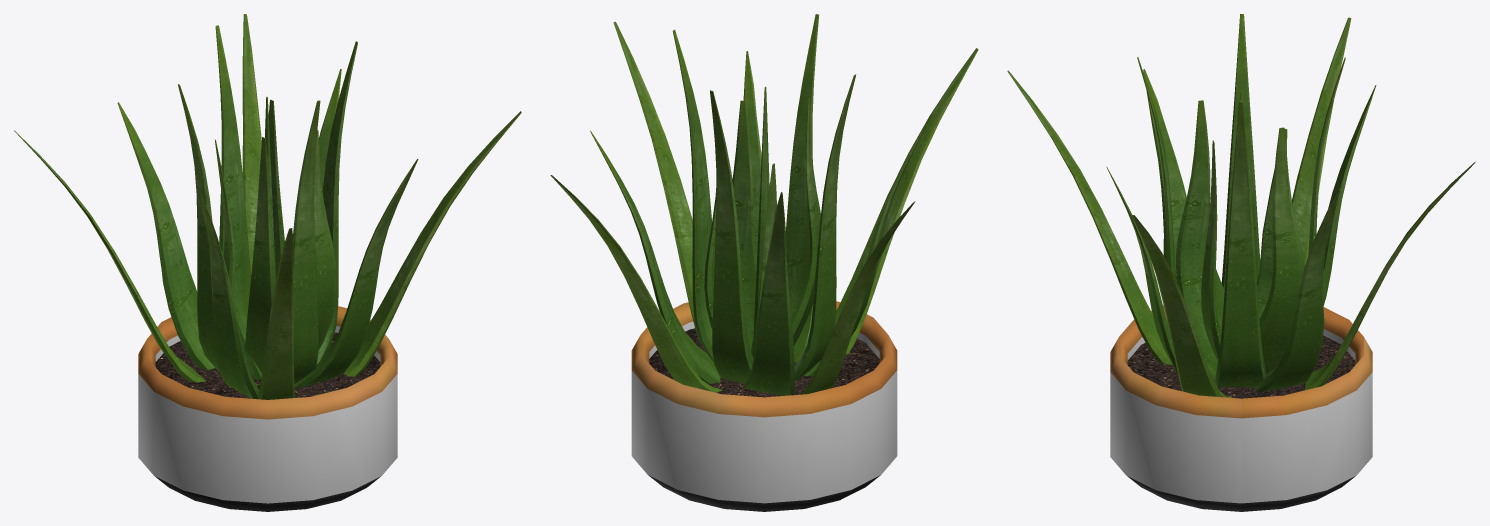
File: drac.gltf
3 views of the same model, side by side, from view 1: azimuth 30°, elevation 25°; view 2: azimuth 150°, elevation 25°; view 3: azimuth 270°, elevation 25° (orthographic). The views are drawn at different scales.
Visible parts, largest first — view 1: Mesh_2, Mesh_0, Mesh_3, Mesh_1; view 2: Mesh_2, Mesh_0, Mesh_3, Mesh_1; view 3: Mesh_2, Mesh_0, Mesh_3, Mesh_1.
Boxes of the visible parts, <box> form: Mesh_2: <box>14,14,521,399</box>; Mesh_0: <box>138,306,397,511</box>; Mesh_3: <box>215,96,337,379</box>; Mesh_1: <box>155,332,380,398</box>; Mesh_2: <box>550,14,978,395</box>; Mesh_0: <box>631,301,897,511</box>; Mesh_3: <box>704,86,820,358</box>; Mesh_1: <box>649,328,879,397</box>; Mesh_2: <box>1007,14,1475,397</box>; Mesh_0: <box>1110,305,1372,511</box>; Mesh_3: <box>1176,91,1304,373</box>; Mesh_1: <box>1127,335,1355,398</box>.
Size of the model in its own units: 101 by 101 by 101.
Materials: 4 (4 with a texture image).
